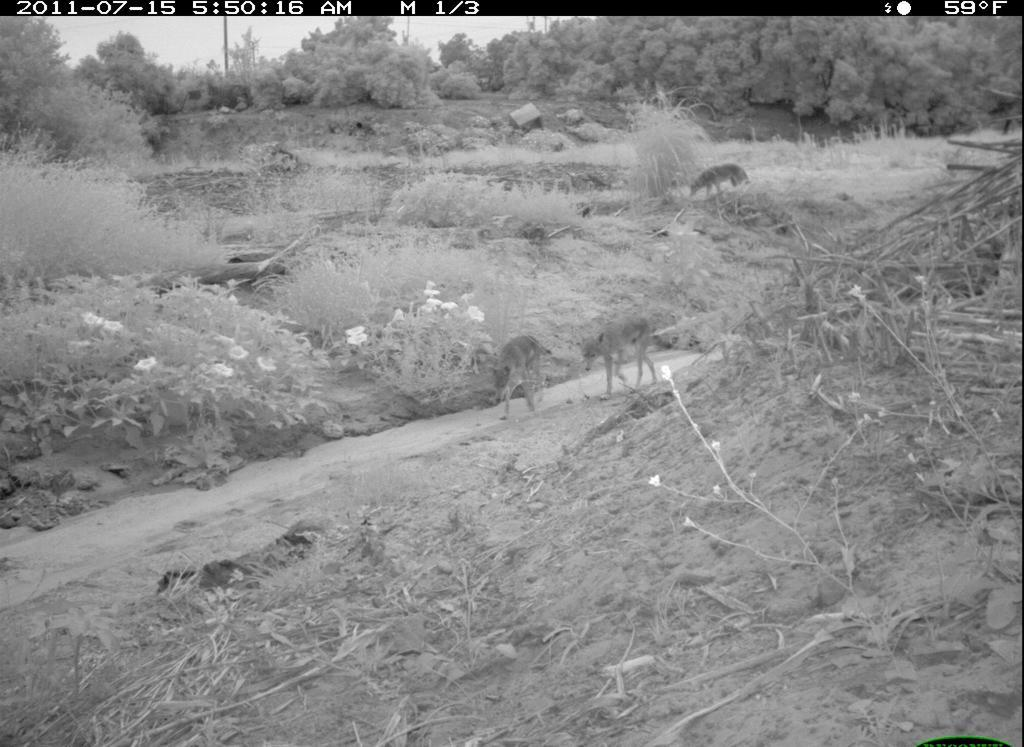coyote: (574, 313, 678, 404), (477, 334, 558, 426), (680, 162, 761, 209)
